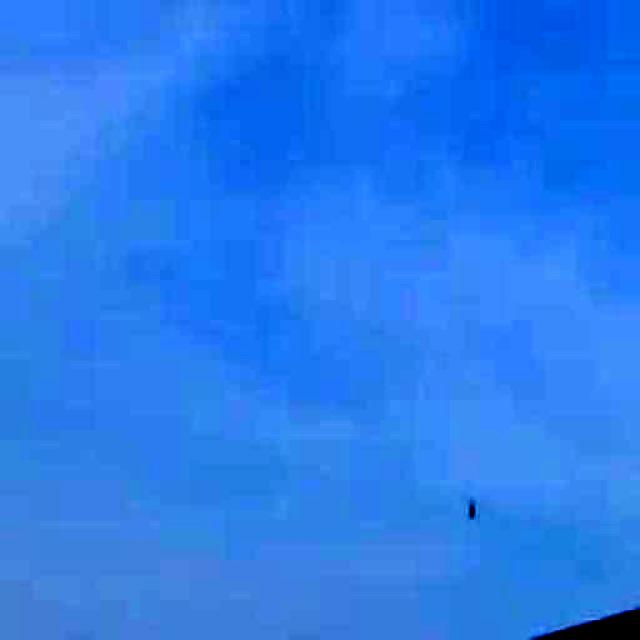drone: (446, 478, 498, 535)
